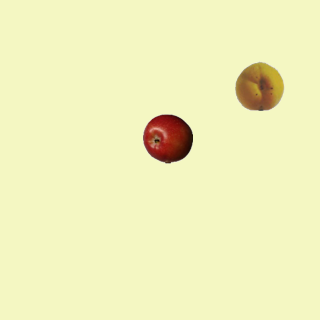Apple Braeburn: (142, 113, 192, 163)
Peach 2: (234, 60, 284, 110)
